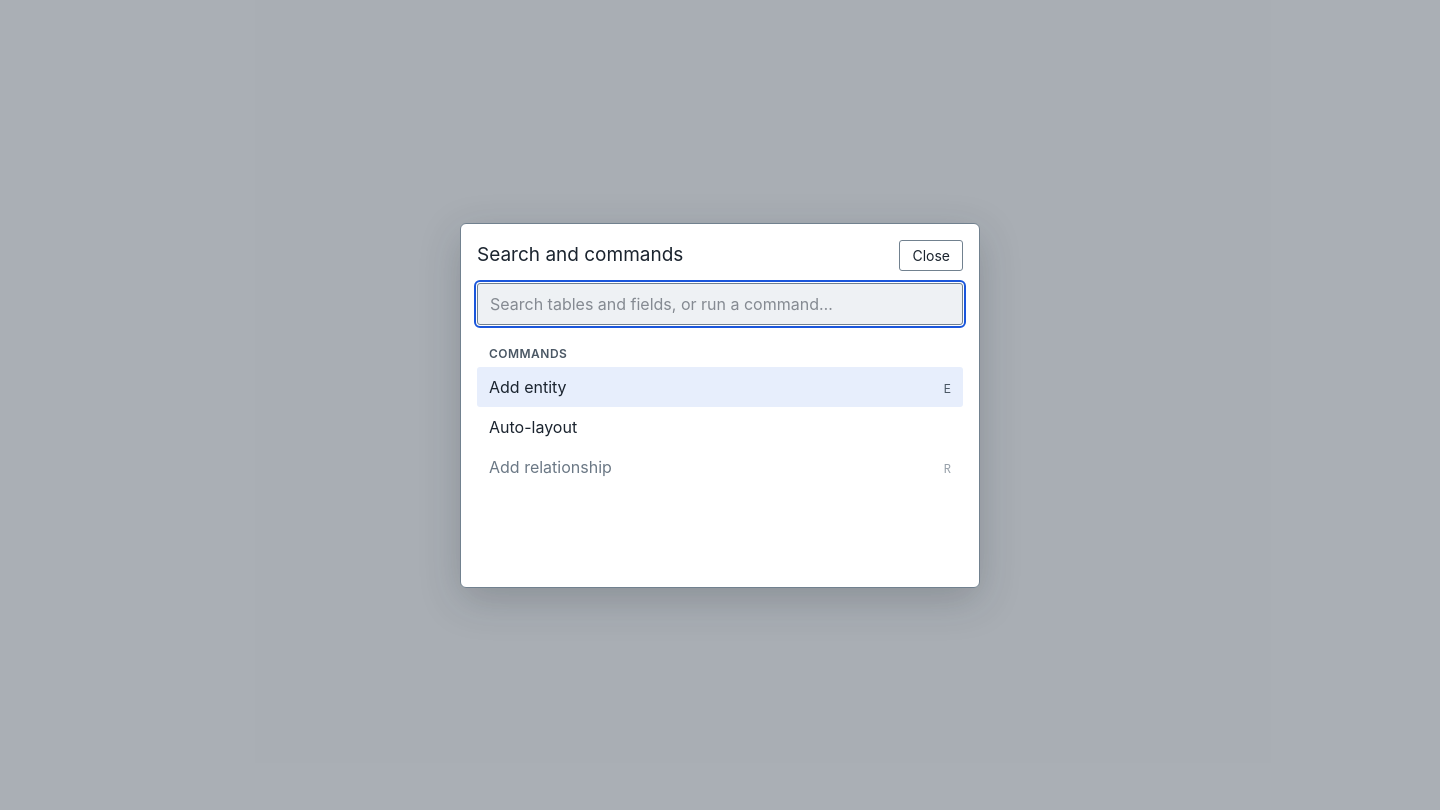
Test case: CommandPalette › searches tables and fields, with the diagram above the commands
The width and height of the screenshot is (1440, 810).
Type "order" into the dropdown at (720, 304), box [477,282,963,324]
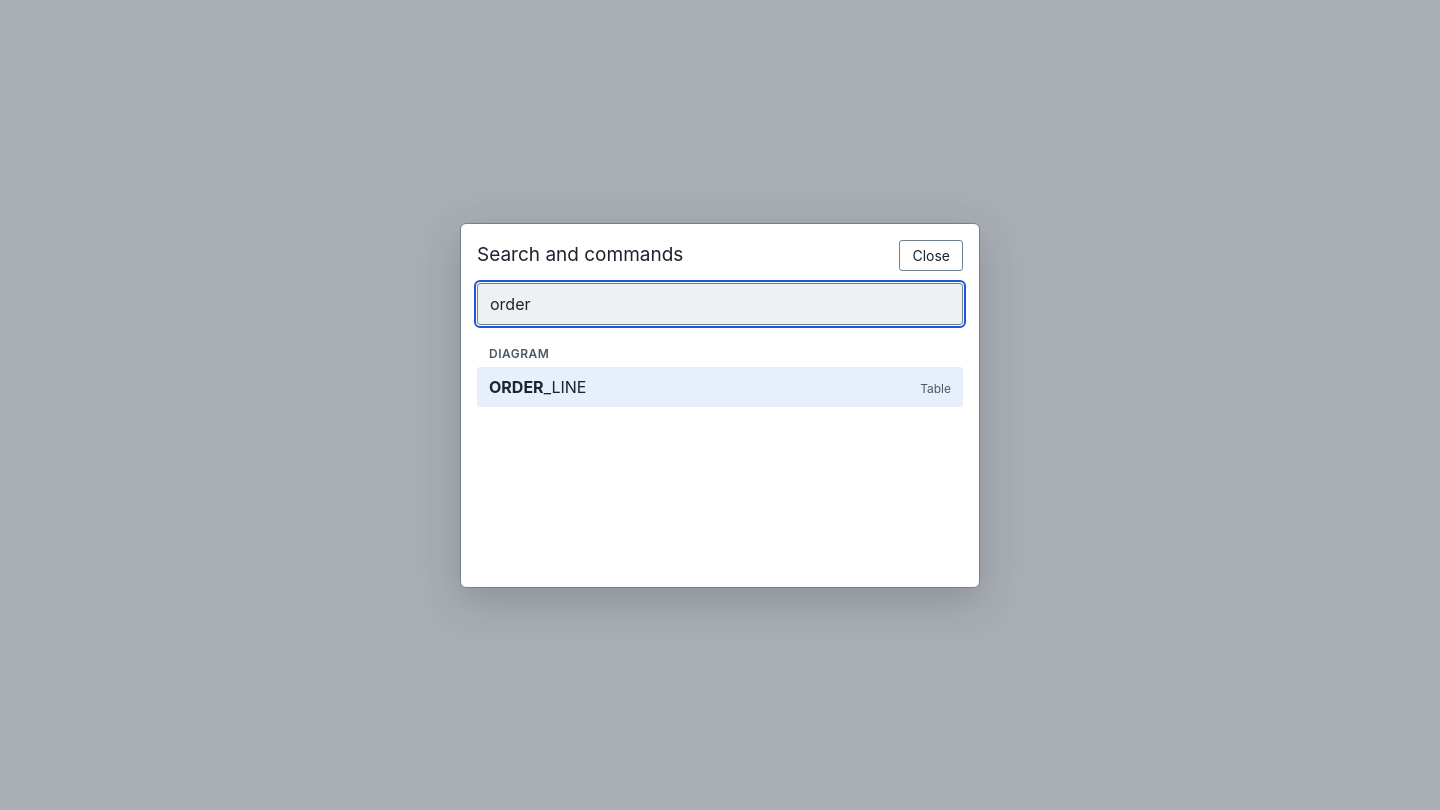
Expected: the option shows "ORDER_LINE", [477,366,963,406]
